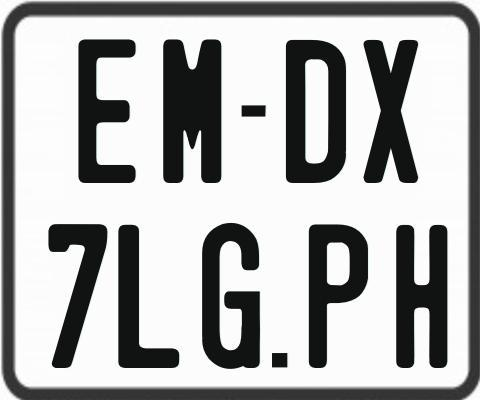7: (48, 224, 109, 373)
D: (284, 39, 345, 182)
E: (77, 40, 141, 188)
G: (200, 221, 263, 367)
H: (394, 225, 450, 370)
L: (116, 223, 183, 370)
M: (163, 37, 222, 183)
P: (307, 223, 367, 367)
X: (364, 37, 423, 180)
